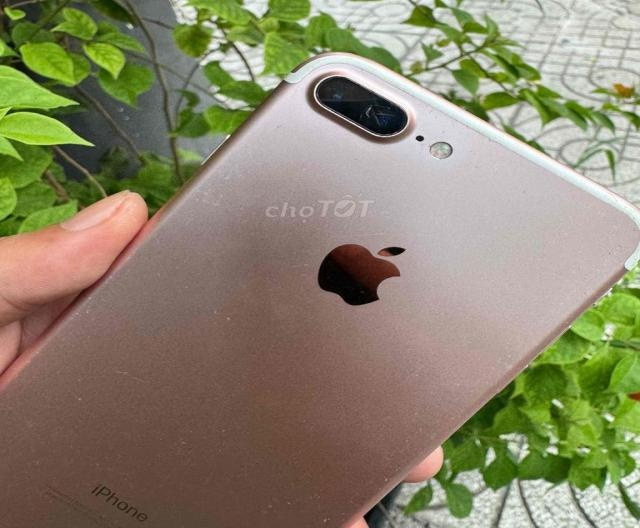scratch: (253, 416, 439, 514), (310, 70, 496, 161), (68, 261, 192, 320), (176, 150, 271, 200), (60, 367, 150, 403), (150, 426, 231, 452), (208, 303, 234, 325)
